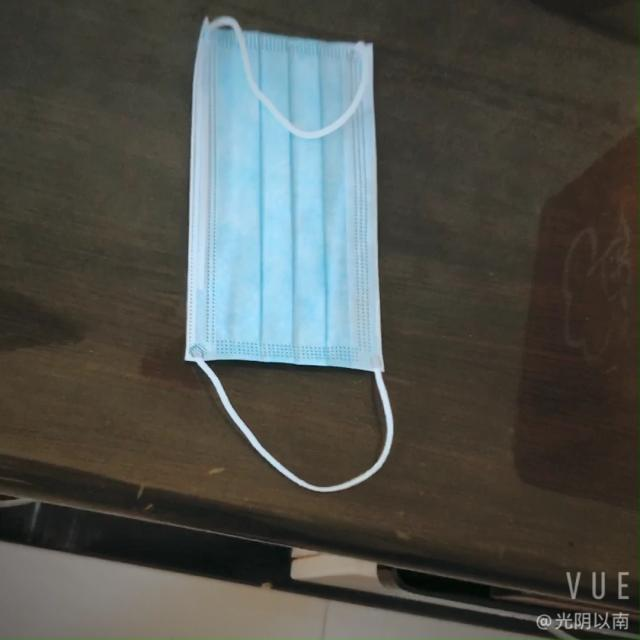non-organic waste: (165, 27, 378, 372)
